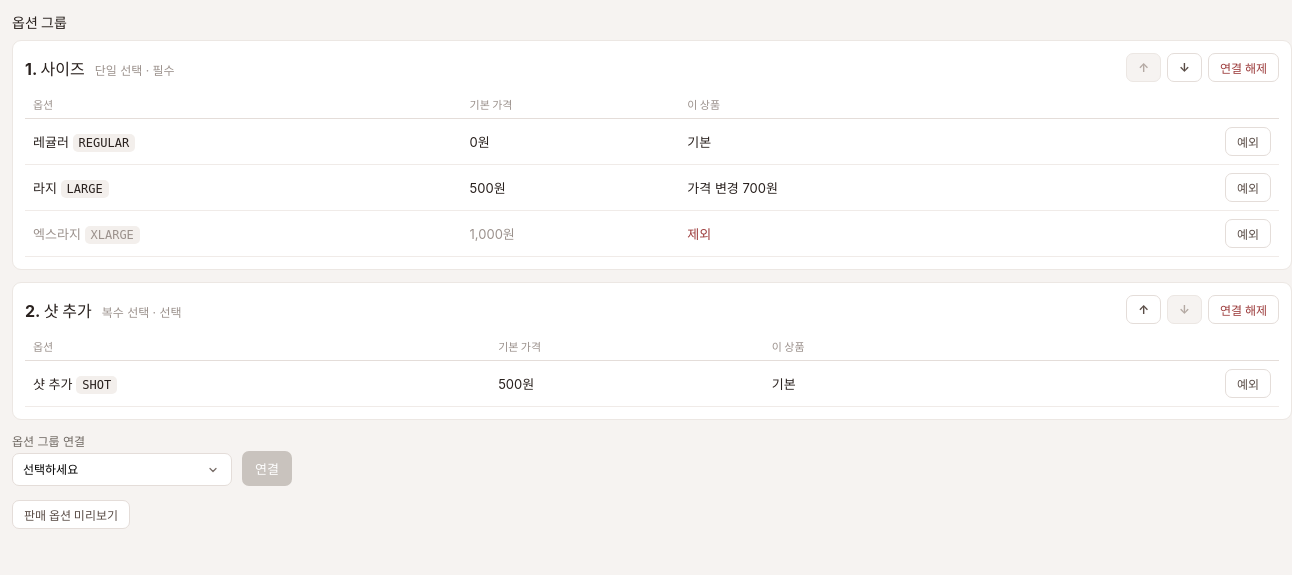
Test: 버전 충돌과 오류 › 그 밖의 오류는 구역 안에 code별 안내로 보여준다
Click the button named "샷 추가 위로" at coordinates (1144, 310), box x1=1126 y1=295 x2=1161 y2=324
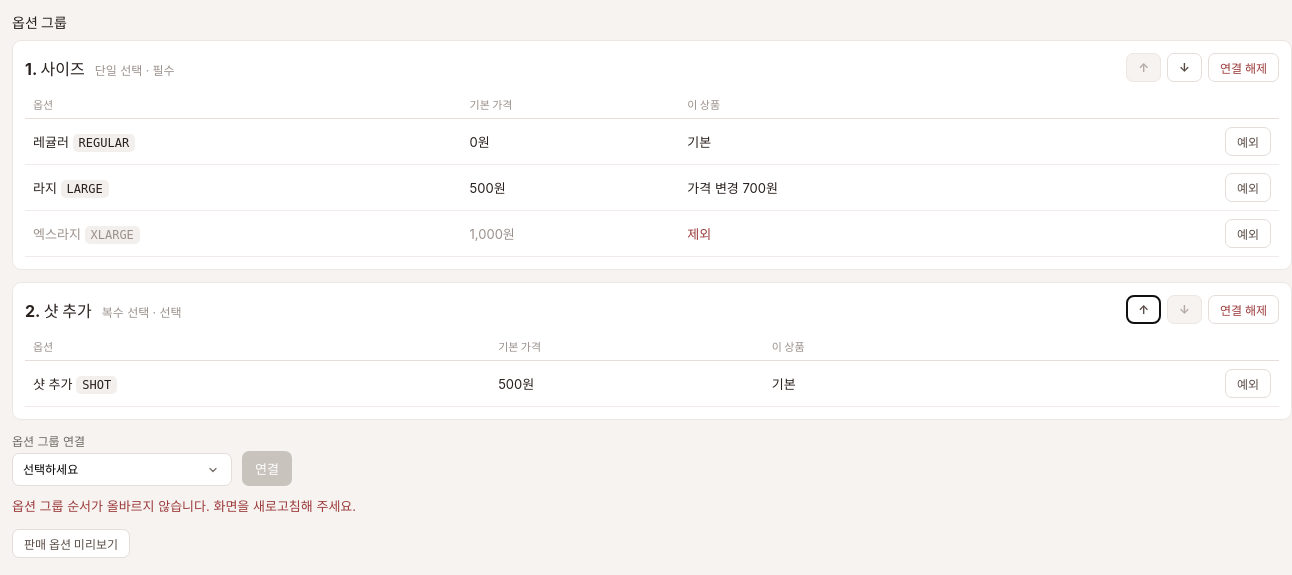
Expected: the message shows "옵션 그룹 순서가 올바르지 않습니다.", x1=12 y1=498 x2=356 y2=514
